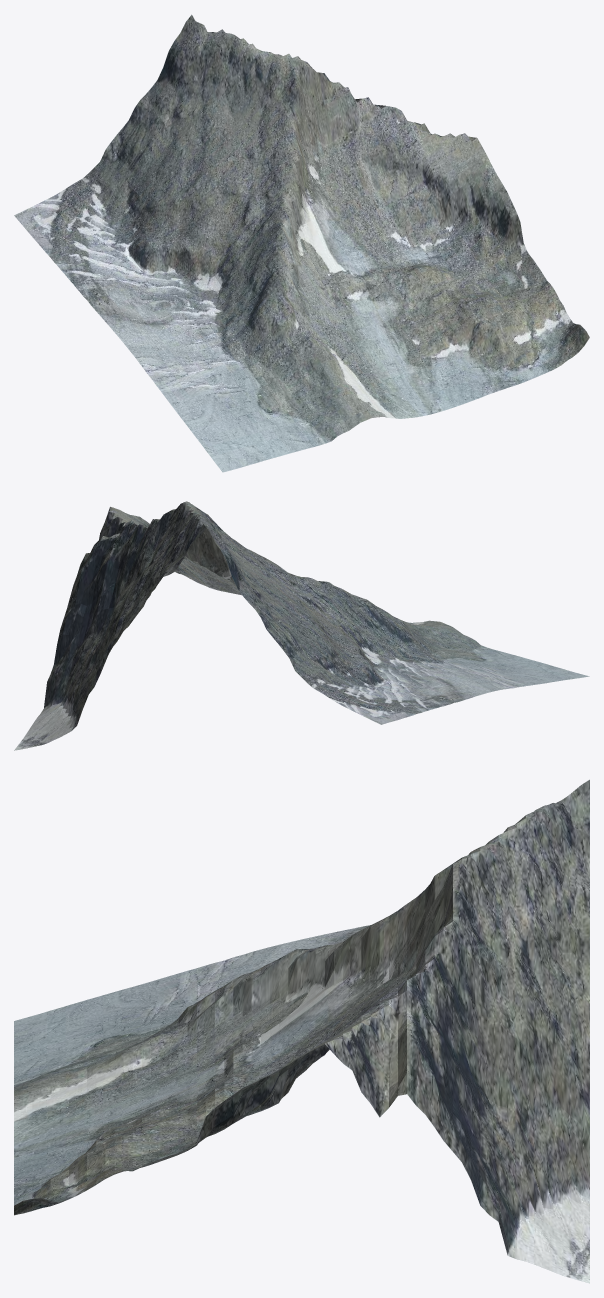
The model's file is Silv_tile_30.gltf.
The picture shows the model from 3 angles, top to bottom: view 1: azimuth 30°, elevation 25°; view 2: azimuth 150°, elevation 25°; view 3: azimuth 270°, elevation 25°; orthographic projection. The views are drawn at different scales.
Parts seen in each view (by area): view 1: 18.036; view 2: 18.036; view 3: 18.036.
Part boxes in pixels (bbox=[...]): 18.036: bbox=[14, 14, 589, 472]; 18.036: bbox=[14, 501, 589, 750]; 18.036: bbox=[14, 779, 589, 1283].
Bounding box in the file's own units: 0.5 × 0.3551 × 0.4922.
1 material, 1 textured.
